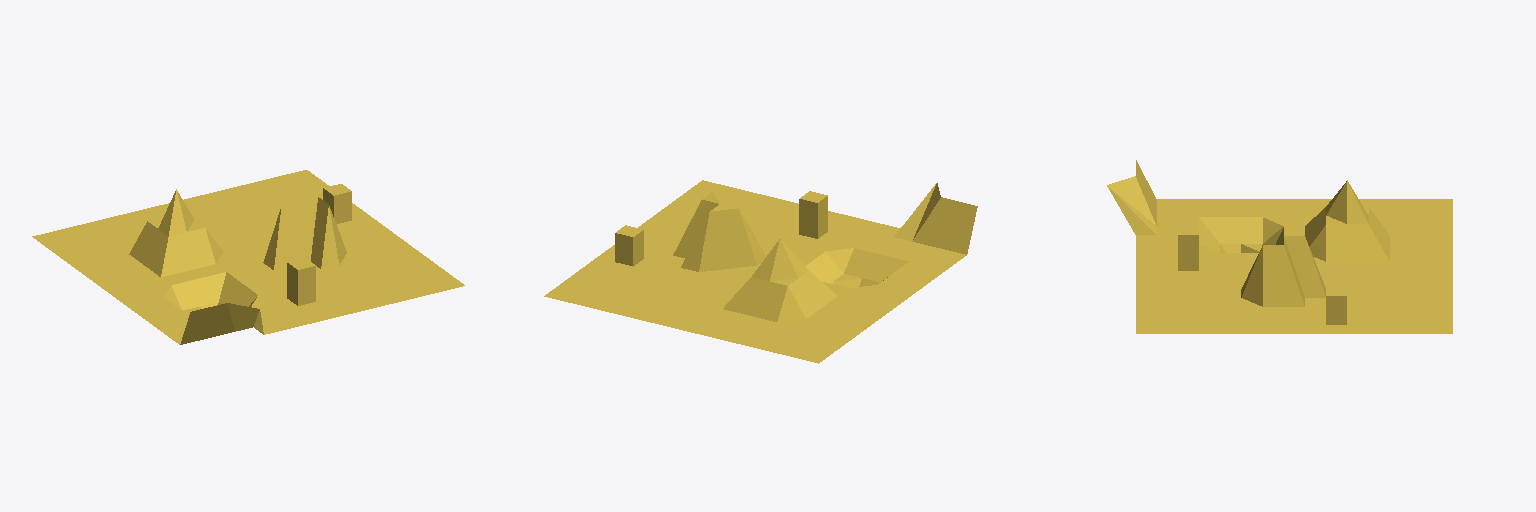
The model's file is TestMap.obj.
3 renders of one model, left to right at view 1: azimuth 30°, elevation 25°; view 2: azimuth 150°, elevation 25°; view 3: azimuth 270°, elevation 25°, orthographic.
Visible parts, largest first — view 1: Plane001; view 2: Plane001; view 3: Plane001.
Part boxes in pixels (x1,y1,x2,y2): Plane001: (32, 170, 464, 344); Plane001: (544, 180, 977, 363); Plane001: (1107, 160, 1452, 333).
Bounding box in the file's own units: 1000 × 370 × 1091.